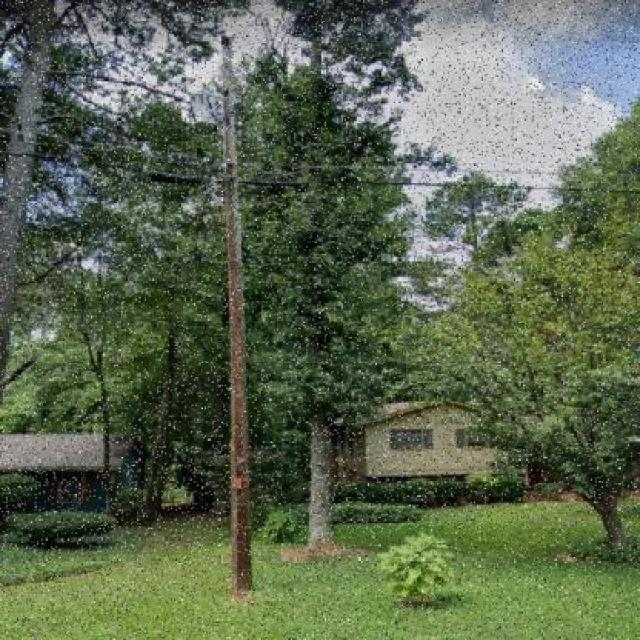pole: (169, 18, 288, 594)
